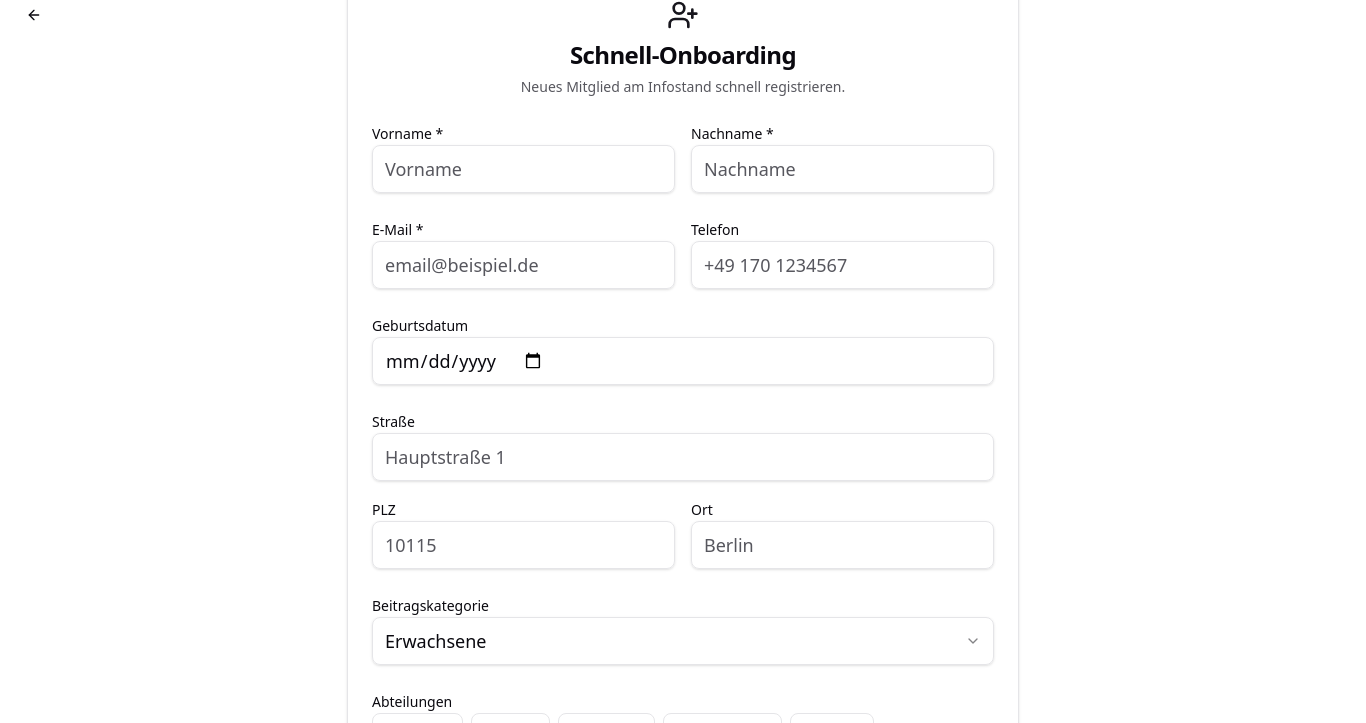
it: OnboardingPage › shows success state after successful submission
Type "Max" into the field with test id "input-vorname" at (524, 169), box [372,145,675,193]
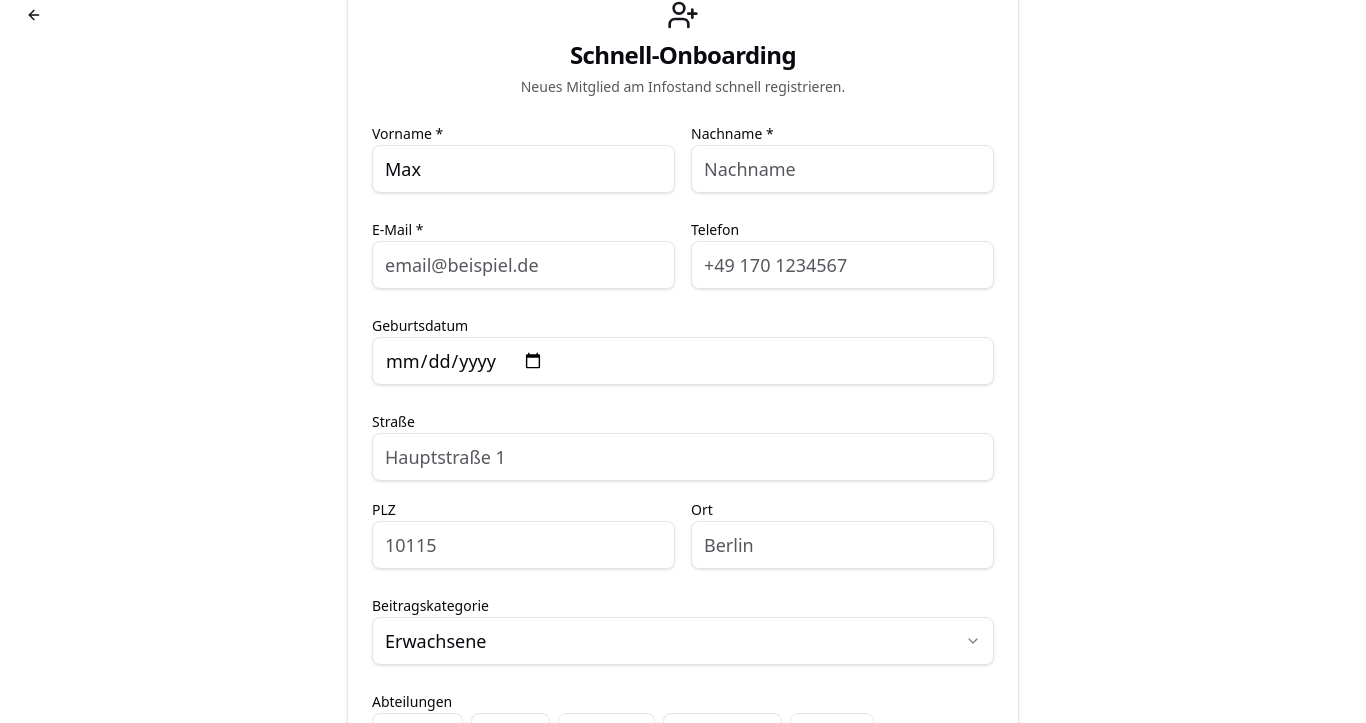
Type "Mustermann" into the field with test id "input-nachname" at (842, 169), box [691,145,994,193]
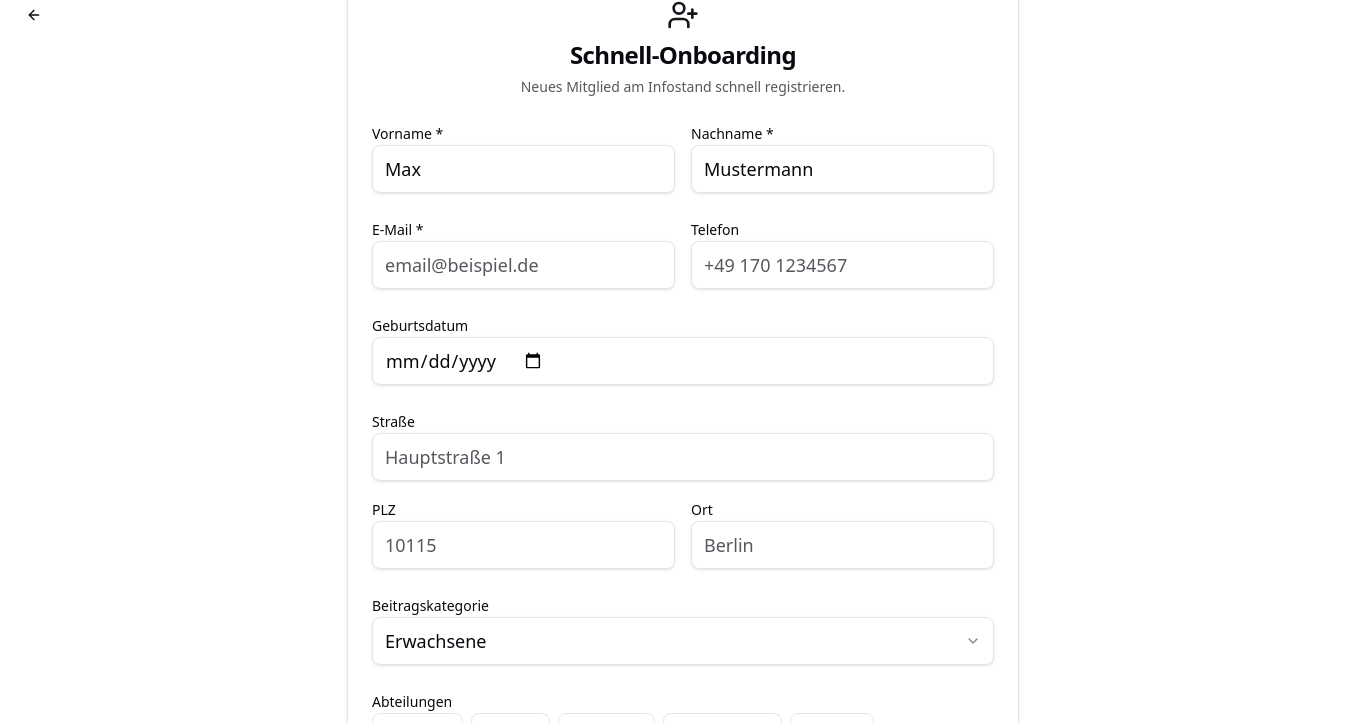
Type "max@beispiel.de" into the field with test id "input-email" at (524, 265), box [372,241,675,289]
(page scrolled)
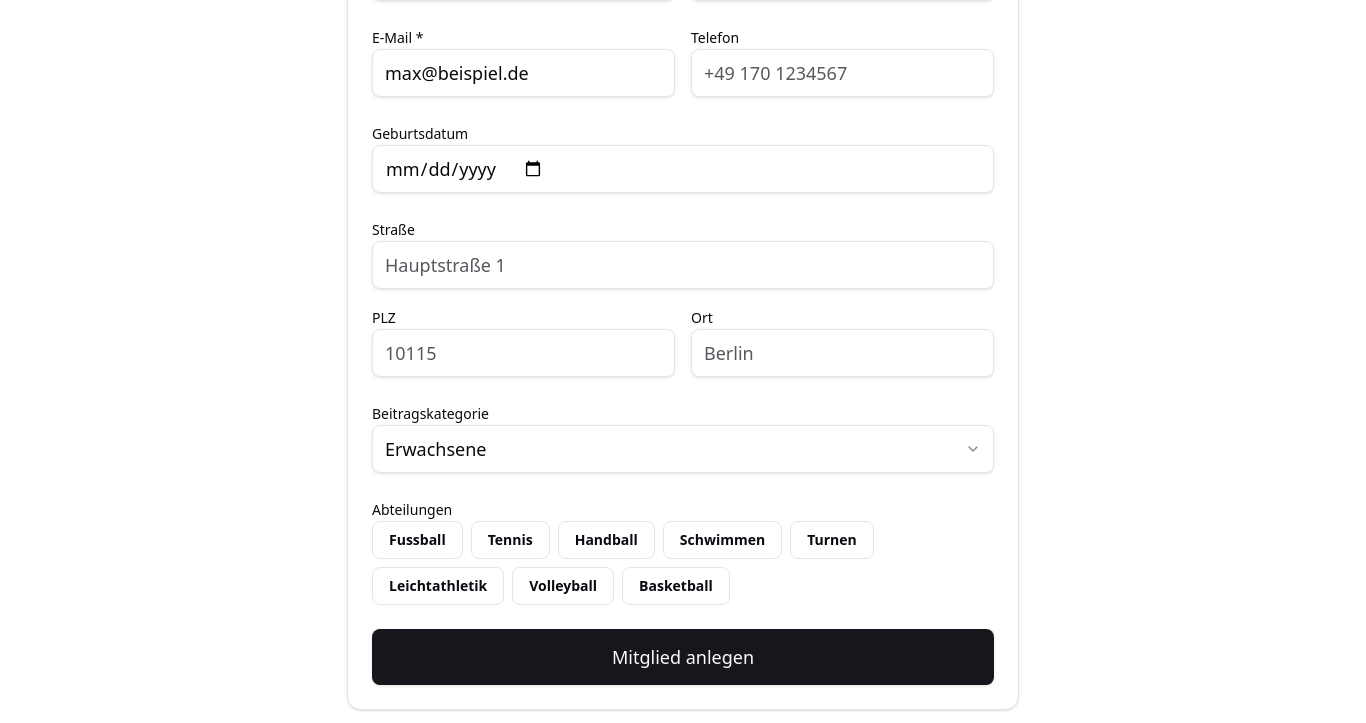
Click the button with test id "submit-button" at (683, 657), box [372,629,994,685]
(page scrolled)
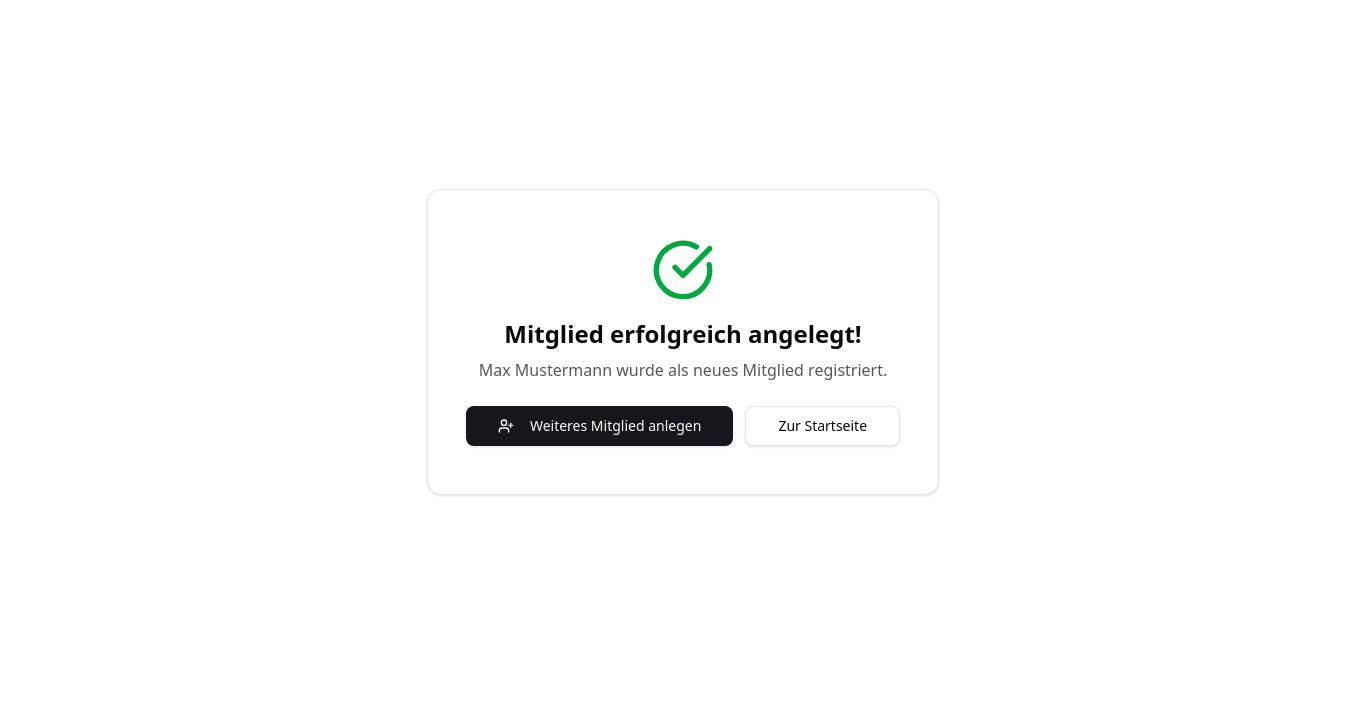
Expected: the heading "Mitglied erfolgreich angelegt!" is shown, [504,317,862,350]
Expected: the button with test id "add-another" is shown, [466,406,733,446]
